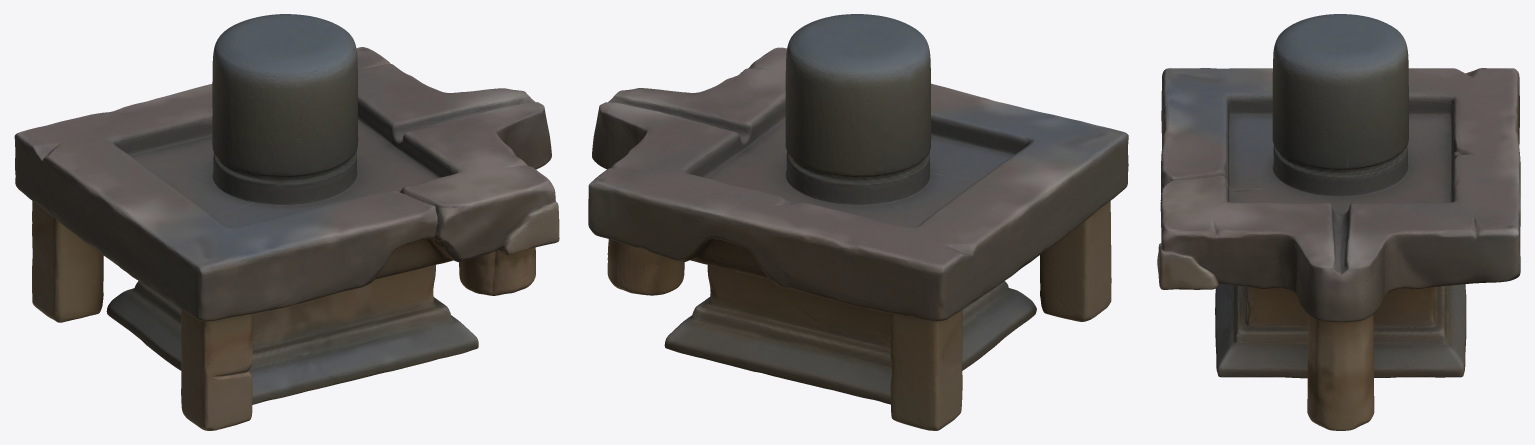
The picture shows the model from 3 angles, left to right: view 1: azimuth 30°, elevation 25°; view 2: azimuth 150°, elevation 25°; view 3: azimuth 270°, elevation 25°; orthographic projection. The views are drawn at different scales.
Visible parts, largest first — view 1: tripo_node_038fa513-a612-4f86-bd67-952dd2b6533c; view 2: tripo_node_038fa513-a612-4f86-bd67-952dd2b6533c; view 3: tripo_node_038fa513-a612-4f86-bd67-952dd2b6533c.
Part boxes in pixels (x1=…): tripo_node_038fa513-a612-4f86-bd67-952dd2b6533c: x1=14, y1=14, x2=559, y2=430; tripo_node_038fa513-a612-4f86-bd67-952dd2b6533c: x1=588, y1=14, x2=1128, y2=430; tripo_node_038fa513-a612-4f86-bd67-952dd2b6533c: x1=1157, y1=14, x2=1520, y2=430.
Size of the model in its own units: 1 by 0.6472 by 0.755.
Materials: 1 (1 with a texture image).
